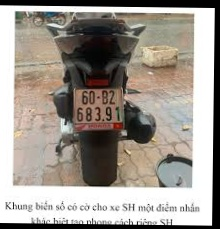Bien-so: (74, 87, 123, 124)
